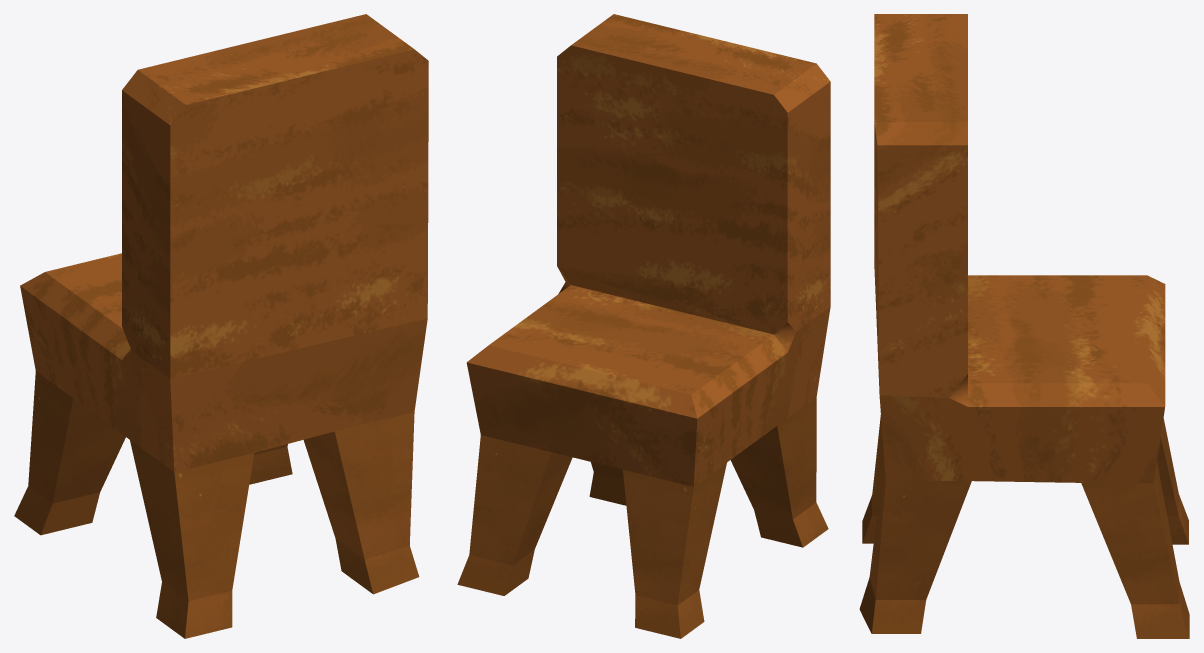
Rendered from SM_chair.fbx.
3 views of the same model, side by side, from view 1: azimuth 30°, elevation 25°; view 2: azimuth 150°, elevation 25°; view 3: azimuth 270°, elevation 25° (orthographic). The views are drawn at different scales.
Visible parts, largest first — view 1: chair; view 2: chair; view 3: chair.
Part boxes in pixels (box(x1,y1,x2,y2)): chair: box(14, 14, 428, 638); chair: box(457, 14, 830, 638); chair: box(859, 14, 1189, 638).
Size of the model in its own units: 11.11 by 21.53 by 12.61.
